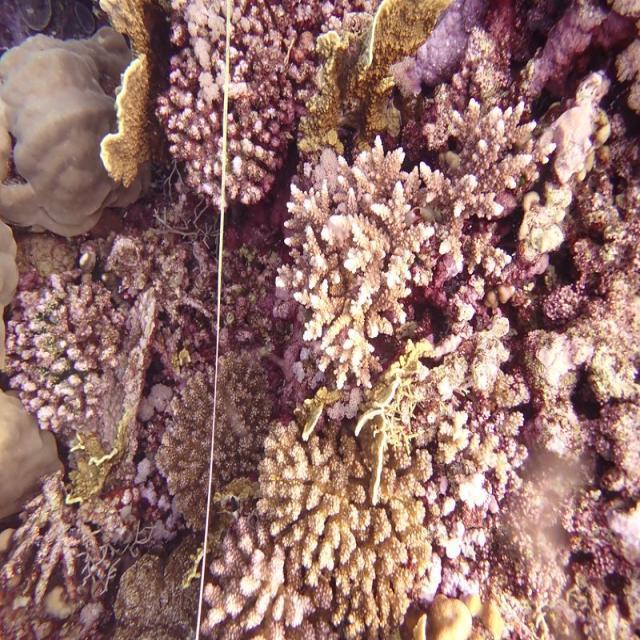Bleached Coral: (288, 122, 432, 246), (14, 466, 100, 594), (160, 0, 250, 108), (111, 474, 201, 574), (437, 468, 501, 594), (546, 92, 618, 182), (128, 370, 194, 422)
Healthy Coral: (256, 386, 434, 636), (5, 256, 101, 446)
